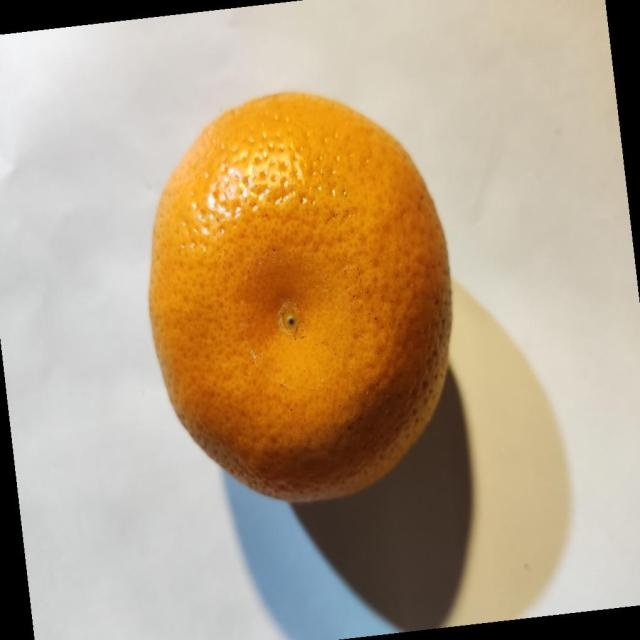agrume: (147, 89, 453, 503)
